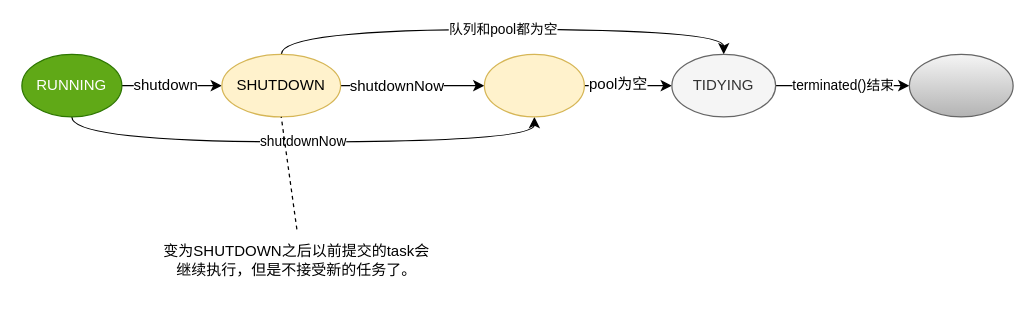
This 1035x314 diagram has some shape labels left out. Here are the shapes that lost their labels. From the top down, the centre of each, then its label:
the point at 533,85: STOP
the point at 960,85: TERMINATED
